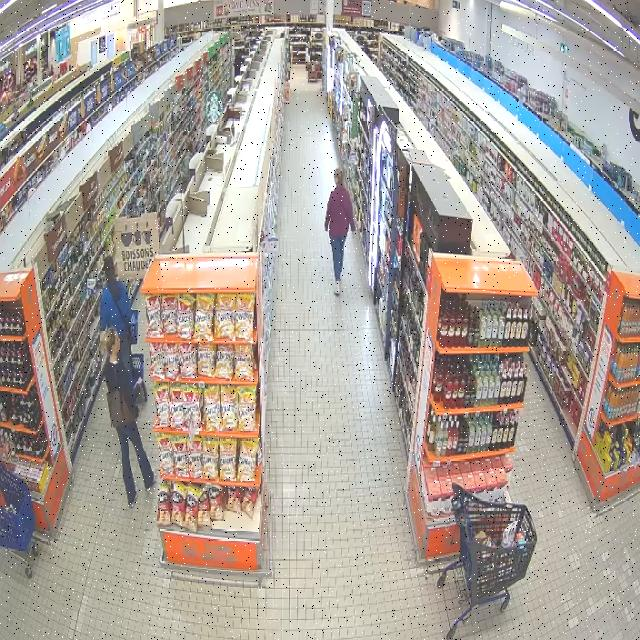bags: (108, 389, 135, 428)
hands: (135, 406, 139, 420), (351, 225, 355, 232), (325, 225, 328, 232)
person: (100, 256, 132, 387), (325, 168, 354, 295), (117, 419, 155, 507)
